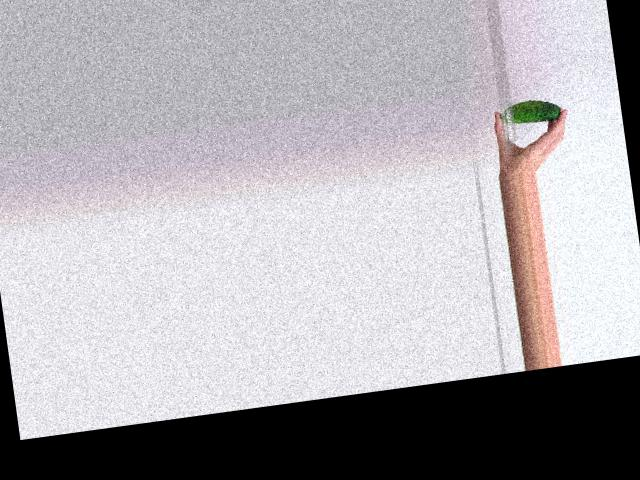cucumber: (498, 95, 561, 126)
